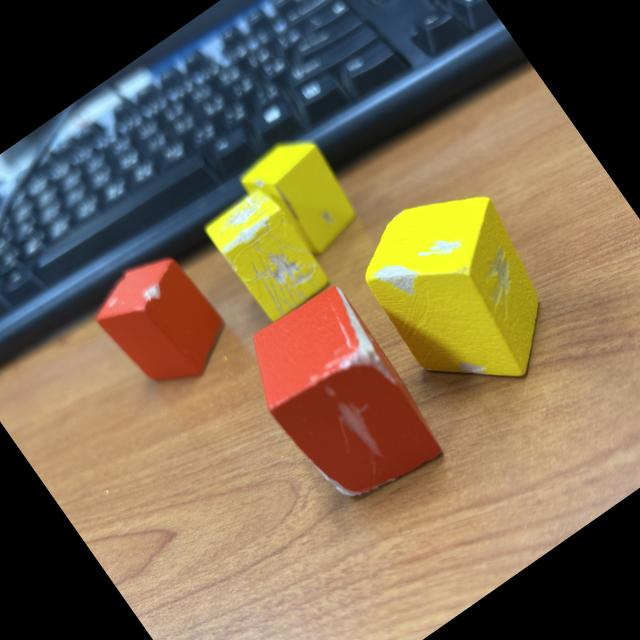broken: (340, 163, 586, 421), (228, 278, 453, 522), (82, 239, 244, 406), (234, 125, 368, 268), (202, 182, 335, 326)
